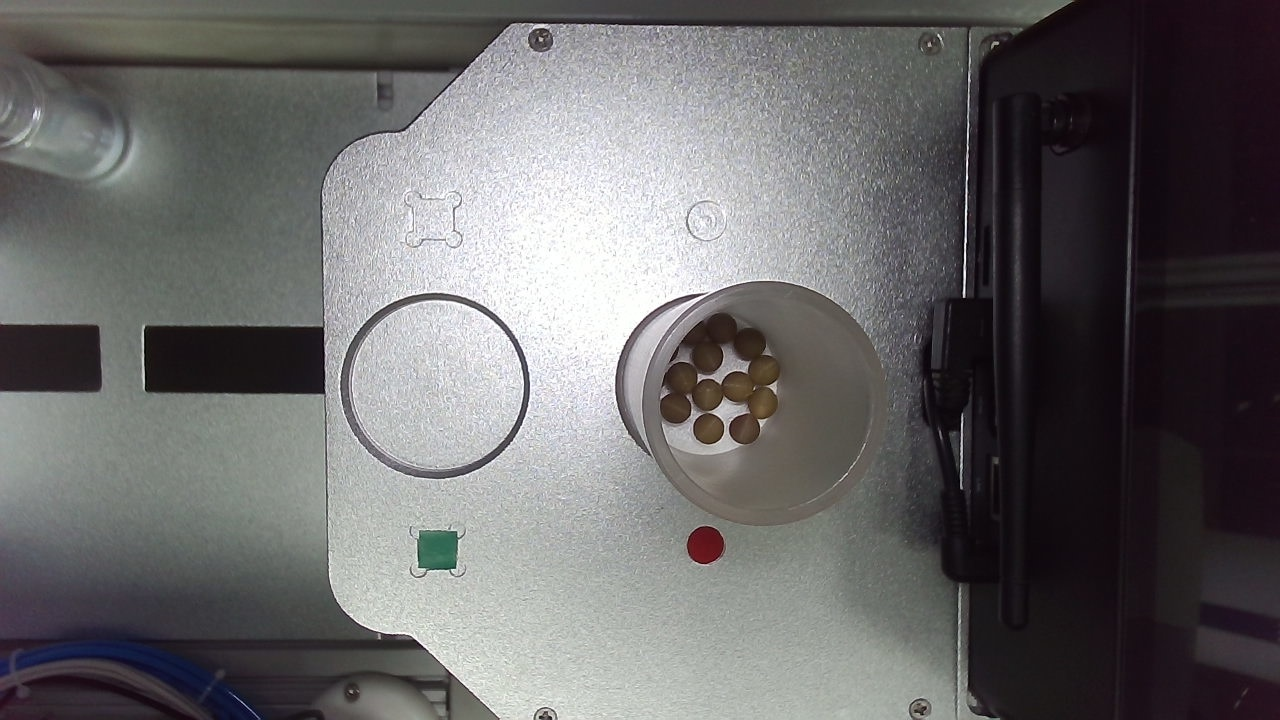XLabel: (571, 317, 605, 350)
YLabel: (349, 312, 384, 347)
transparenexcept: (471, 388, 684, 605)
